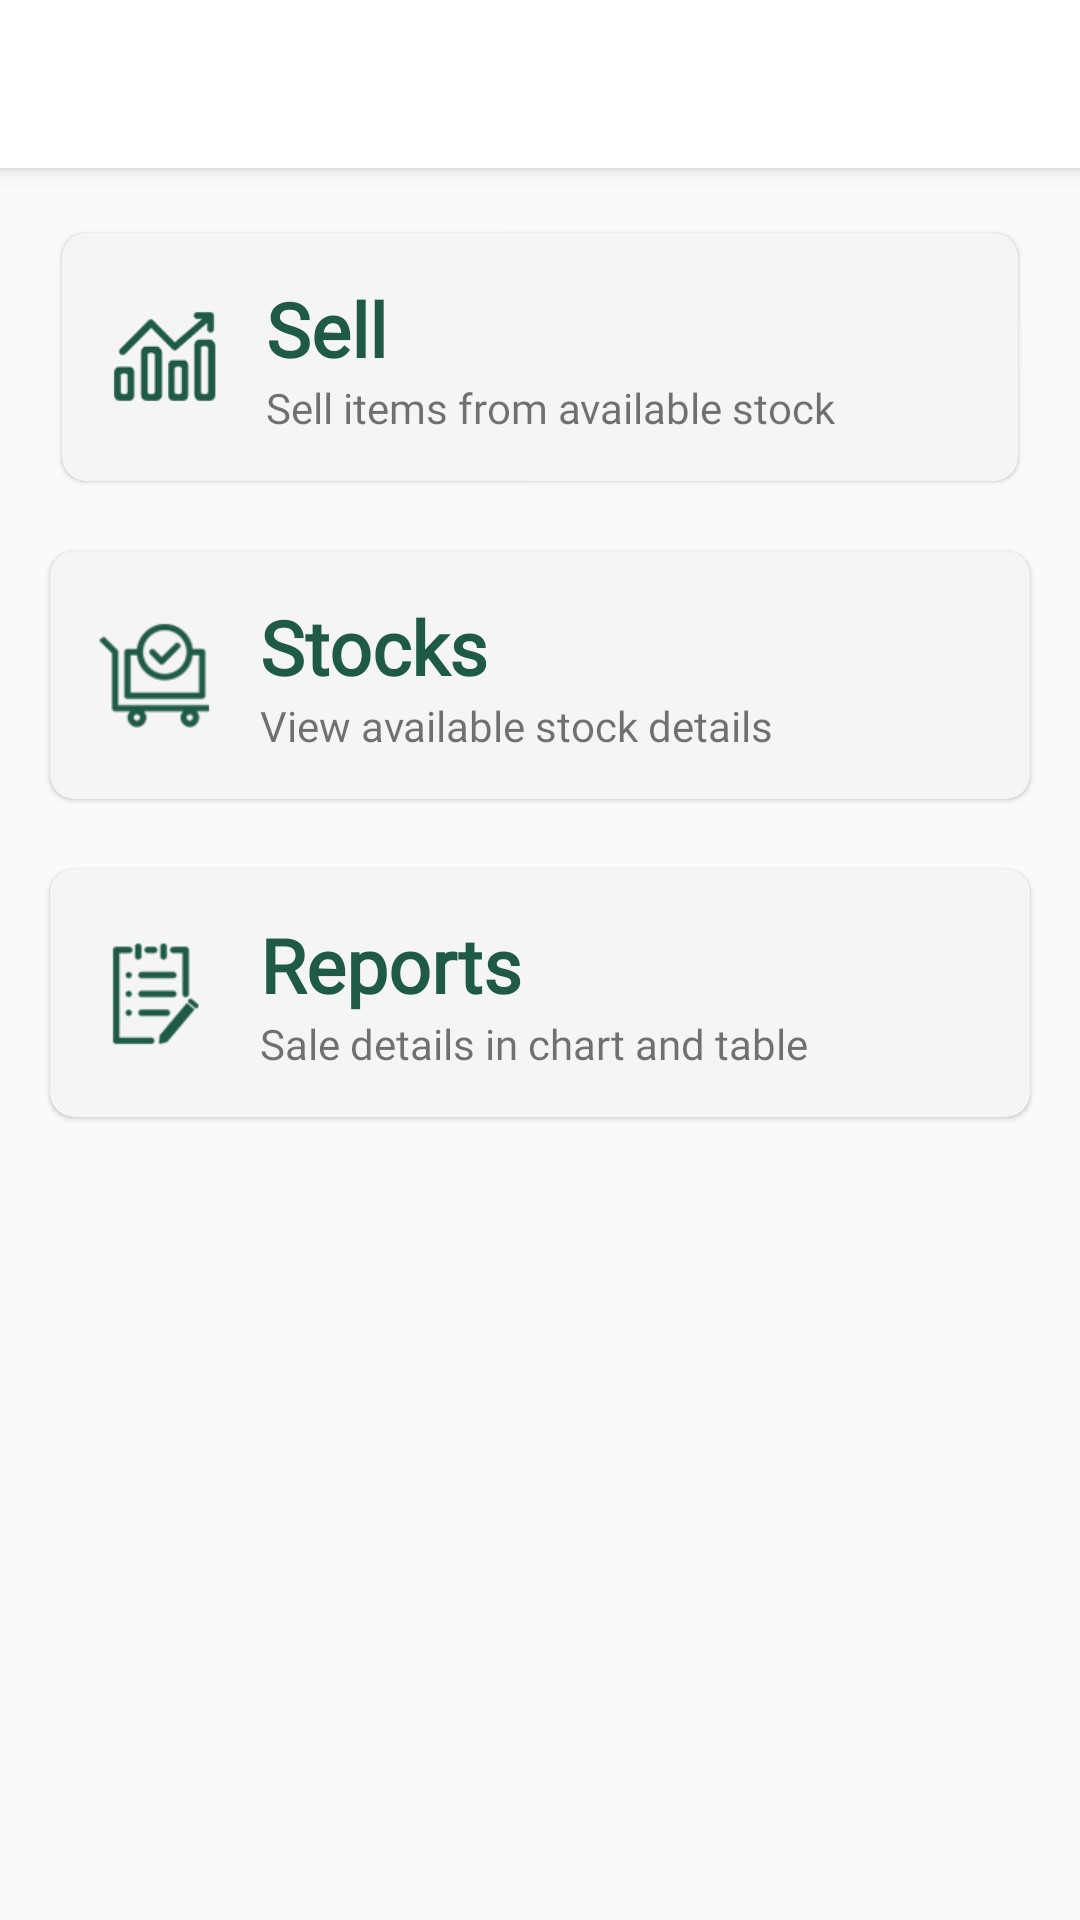

Point at icon controls on the screen. Image size 1080px x 1920px, points as (x=x, y=y).
sales: (x=165, y=356)
